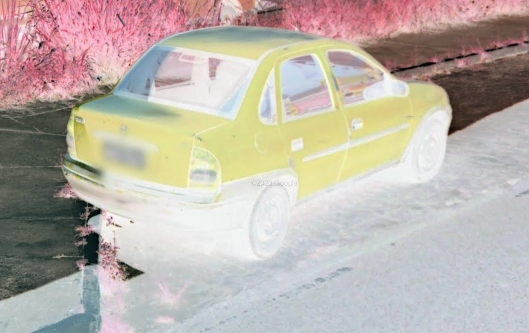car: (61, 23, 454, 264)
